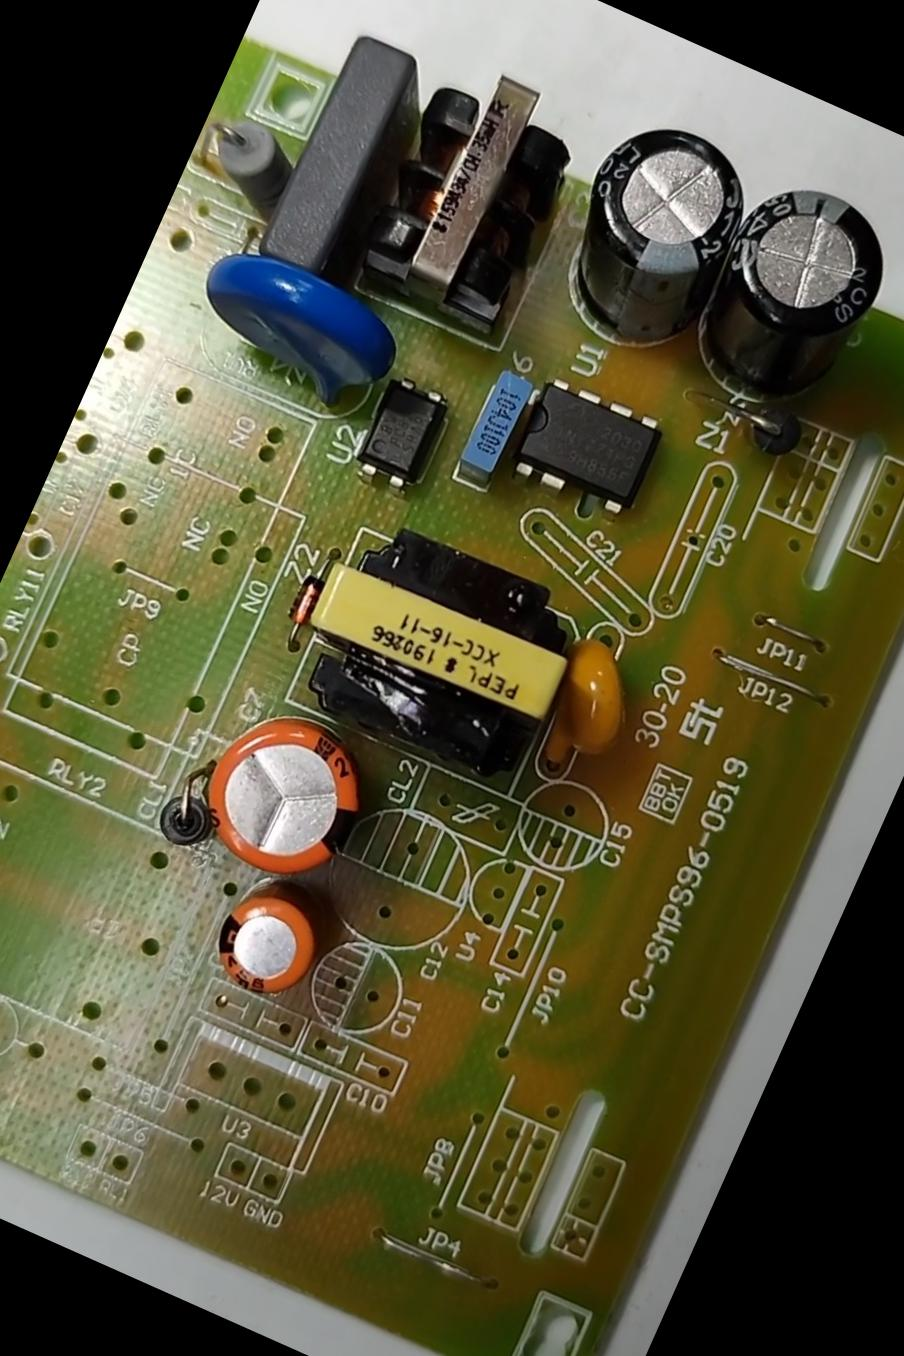Cap1: (158, 680, 405, 915)
Cap2: (181, 851, 354, 1032)
Cap3: (533, 96, 785, 374)
Cap4: (665, 140, 903, 445)
MOSFET: (488, 359, 686, 543)
Mov: (167, 222, 418, 437)
Resistor: (183, 89, 315, 226)
Transformer: (260, 493, 614, 820), (339, 39, 602, 347)
